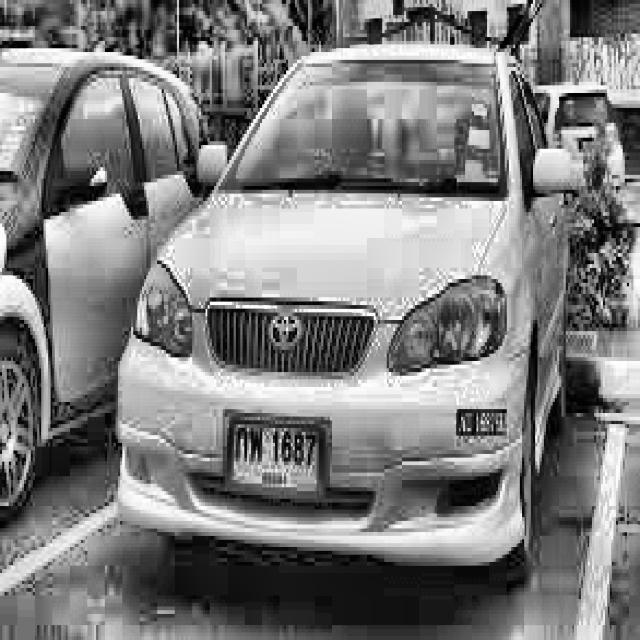license-plate: (224, 408, 346, 508)
